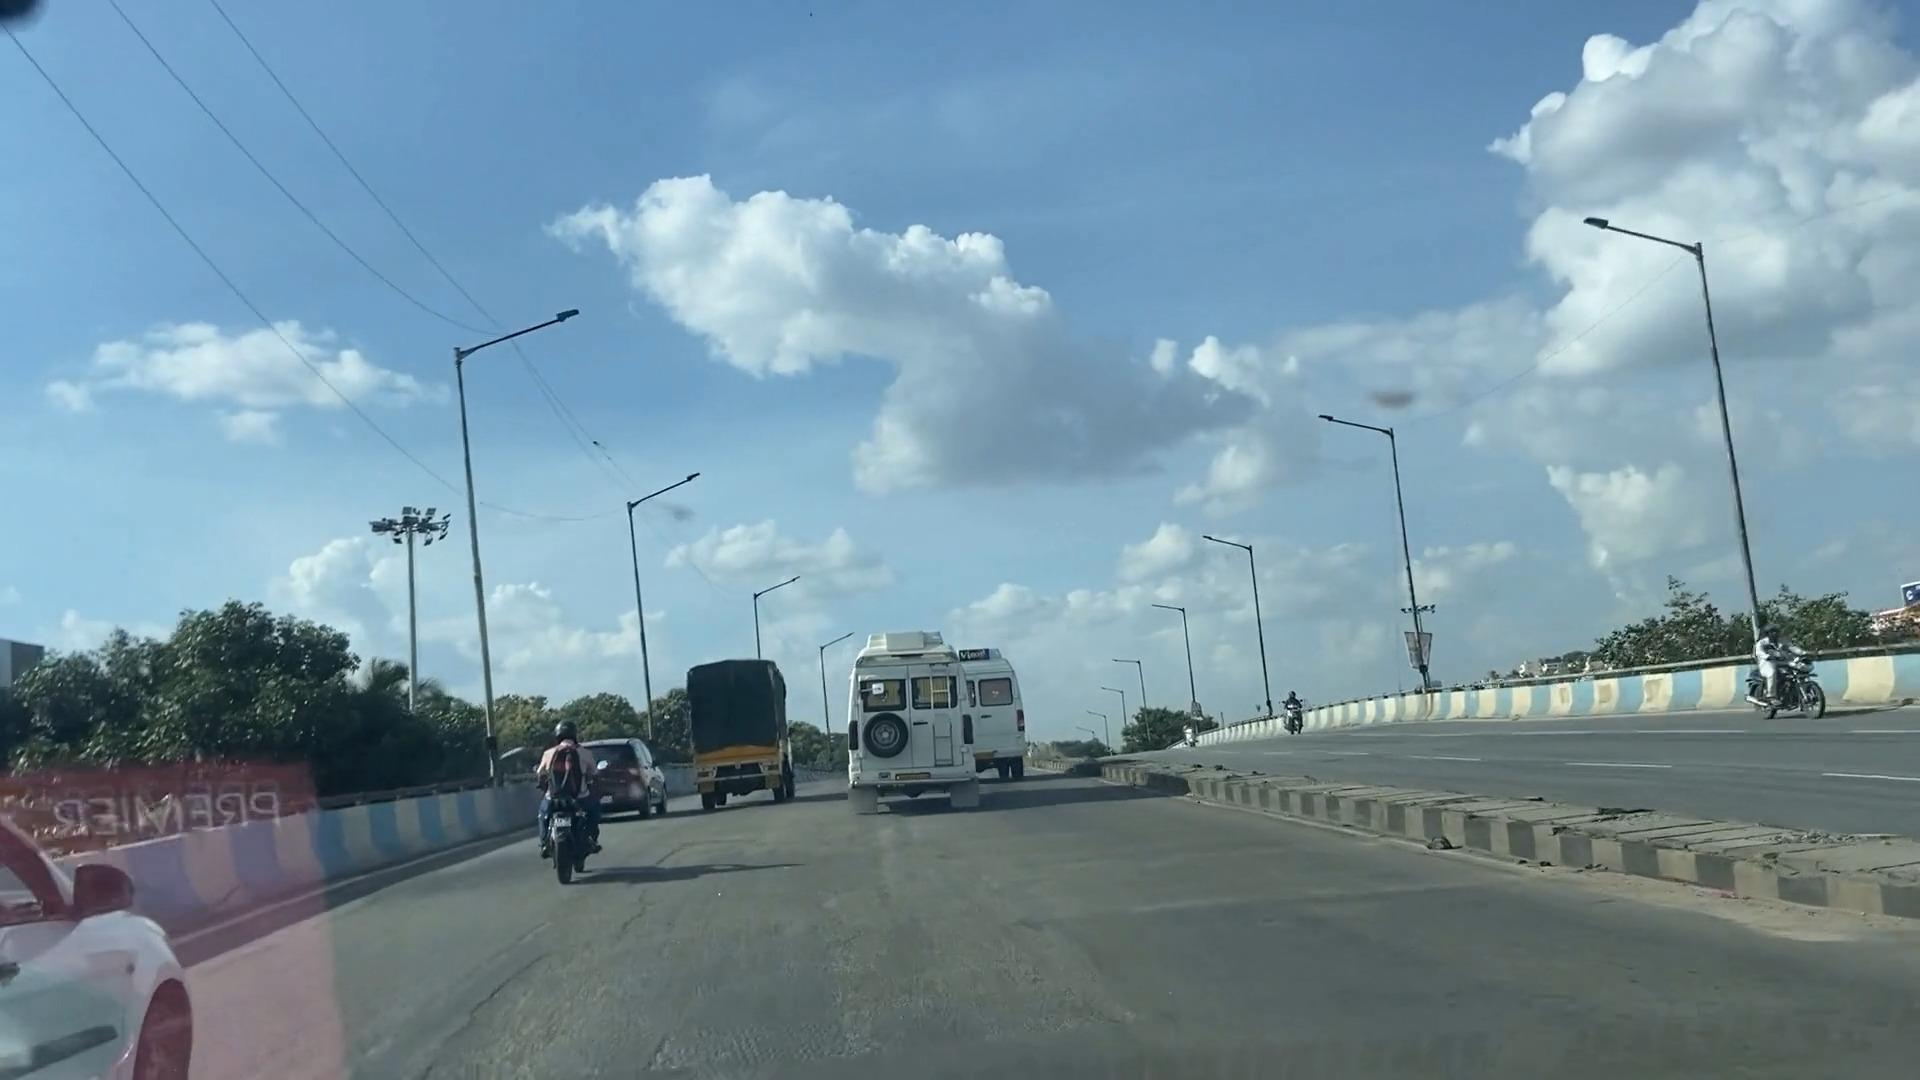HMV: (843, 634, 973, 807), (658, 654, 795, 815), (955, 633, 1017, 793)
LMV: (538, 716, 601, 894), (587, 735, 649, 811)
RoadDamages: (390, 907, 1108, 1080)
